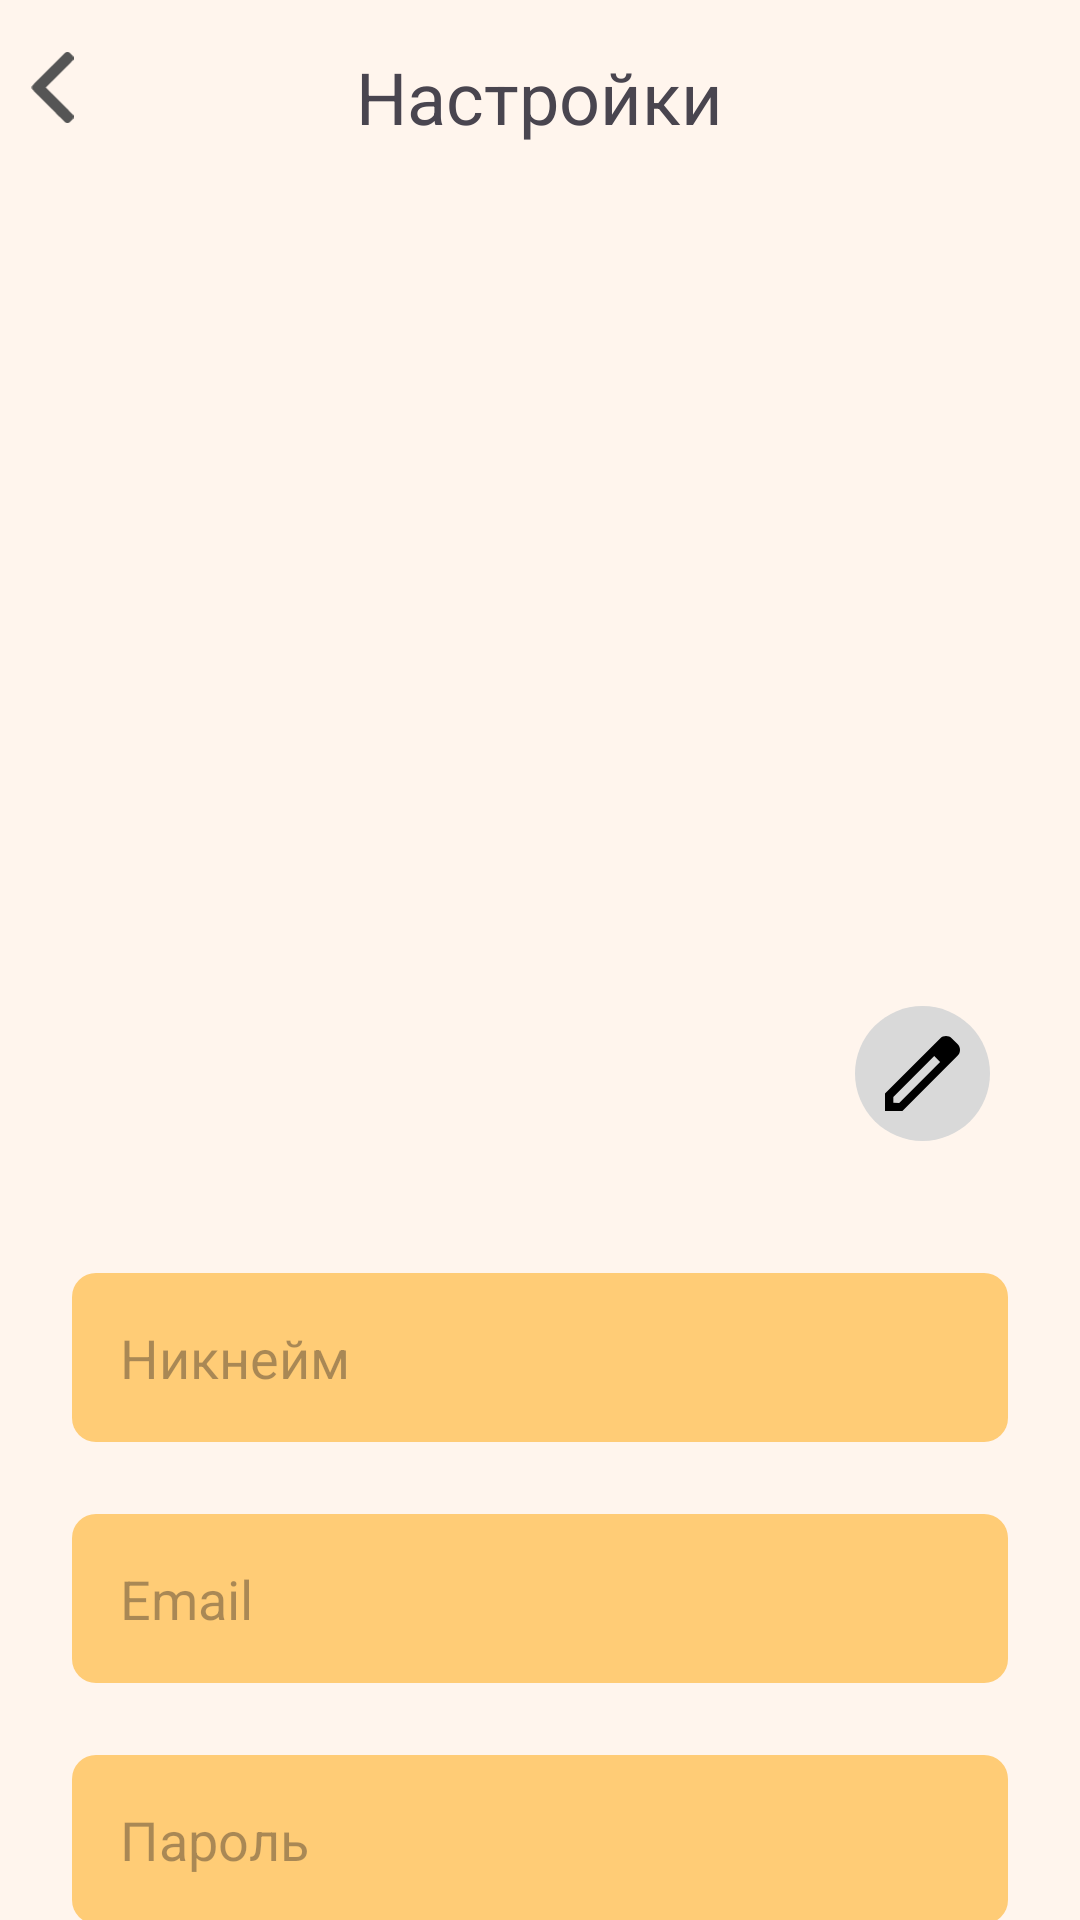

Icons on this 1080px×1920px Android screen, each with the point to tap as (x,y):
change: (922,1073)
